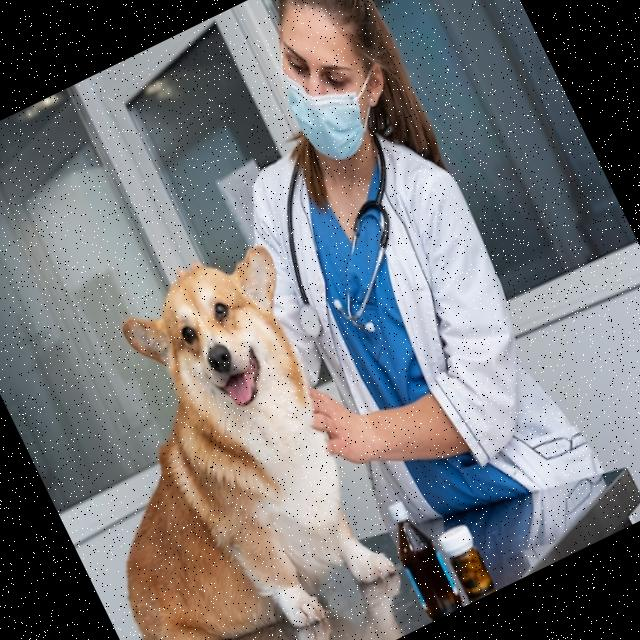Dog: (7, 233, 424, 640)
Person: (131, 0, 601, 573)
